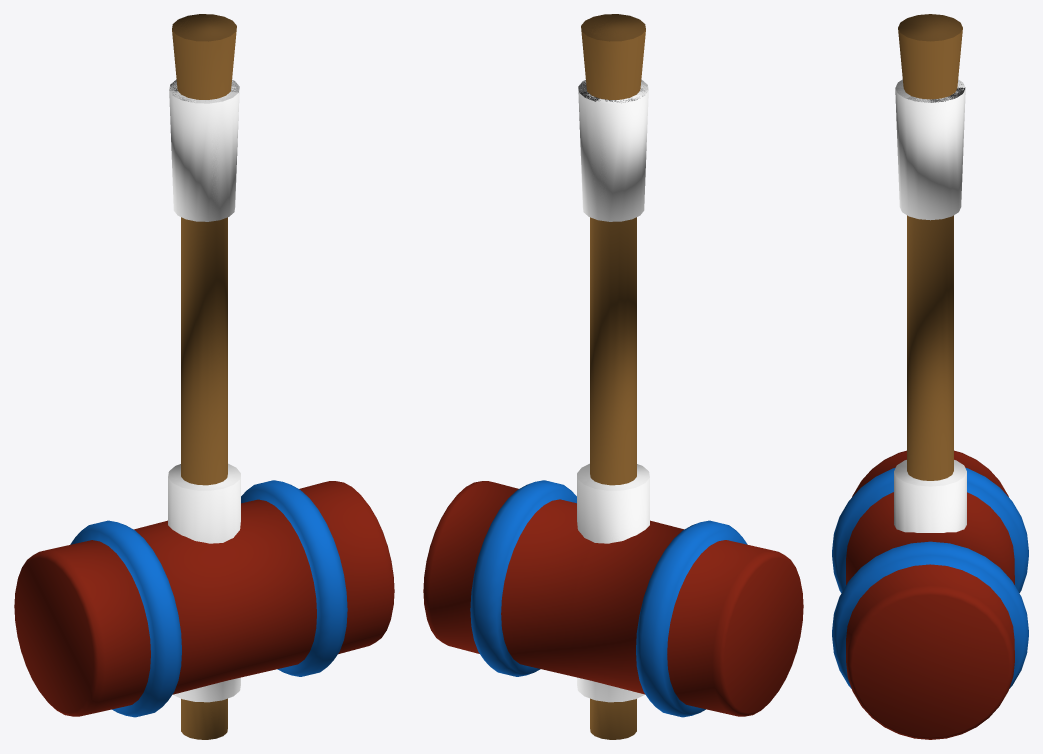
File: martillo.fbx
3 views of the same model, side by side, from view 1: azimuth 30°, elevation 25°; view 2: azimuth 150°, elevation 25°; view 3: azimuth 270°, elevation 25° (orthographic).
Visible parts, largest first — view 1: Cylinder; view 2: Cylinder; view 3: Cylinder.
Boxes of the visible parts, x1=… form: Cylinder: x1=14, y1=14, x2=394, y2=739; Cylinder: x1=423, y1=14, x2=803, y2=739; Cylinder: x1=832, y1=14, x2=1028, y2=739.
Size of the model in its own units: 407 by 909 by 233.
2 materials, 2 textured.
